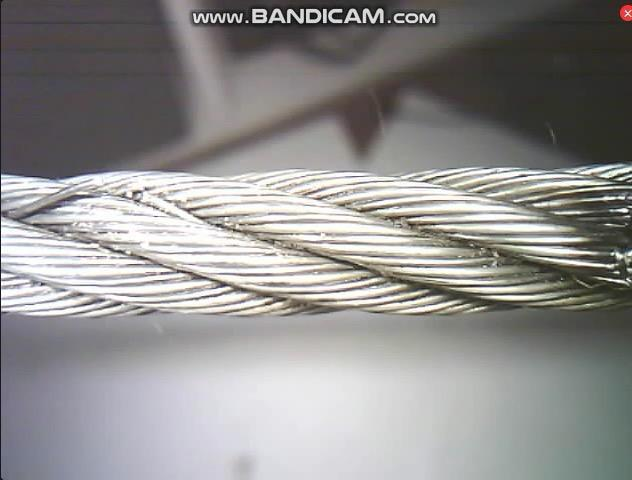break: (39, 159, 114, 214)
